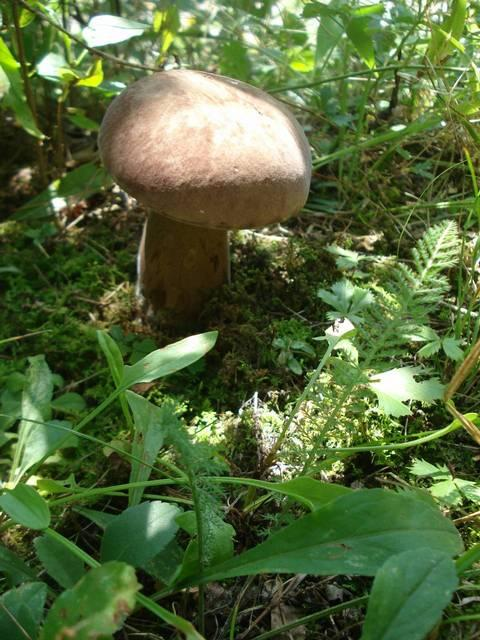Non-edible Mushroom: (95, 67, 312, 323)
